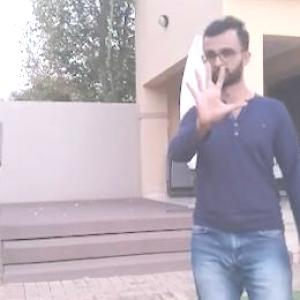follow_hand: (180, 57, 248, 132)
